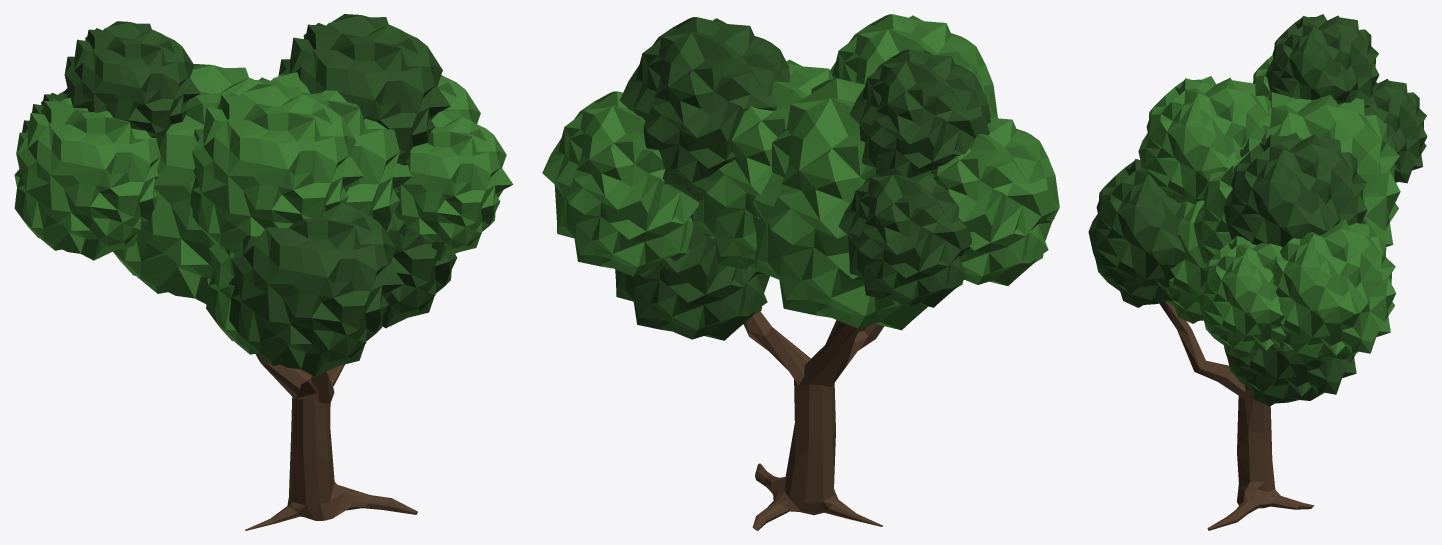
File: tree 2.fbx
3 views of the same model, side by side, from view 1: azimuth 30°, elevation 25°; view 2: azimuth 150°, elevation 25°; view 3: azimuth 270°, elevation 25° (orthographic). The views are drawn at different scales.
Visible parts, largest first — view 1: LowPoly Tree .009; view 2: LowPoly Tree .009; view 3: LowPoly Tree .009.
Boxes of the visible parts, left/top/right/bottom form: LowPoly Tree .009: left=14, top=14, right=513, bottom=530; LowPoly Tree .009: left=542, top=14, right=1059, bottom=530; LowPoly Tree .009: left=1088, top=14, right=1427, bottom=530.
Bounding box in the file's own units: 235 × 240 × 175.
